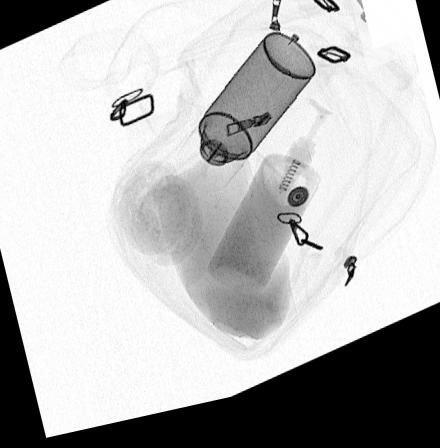Sprayer: (170, 42, 315, 204)
